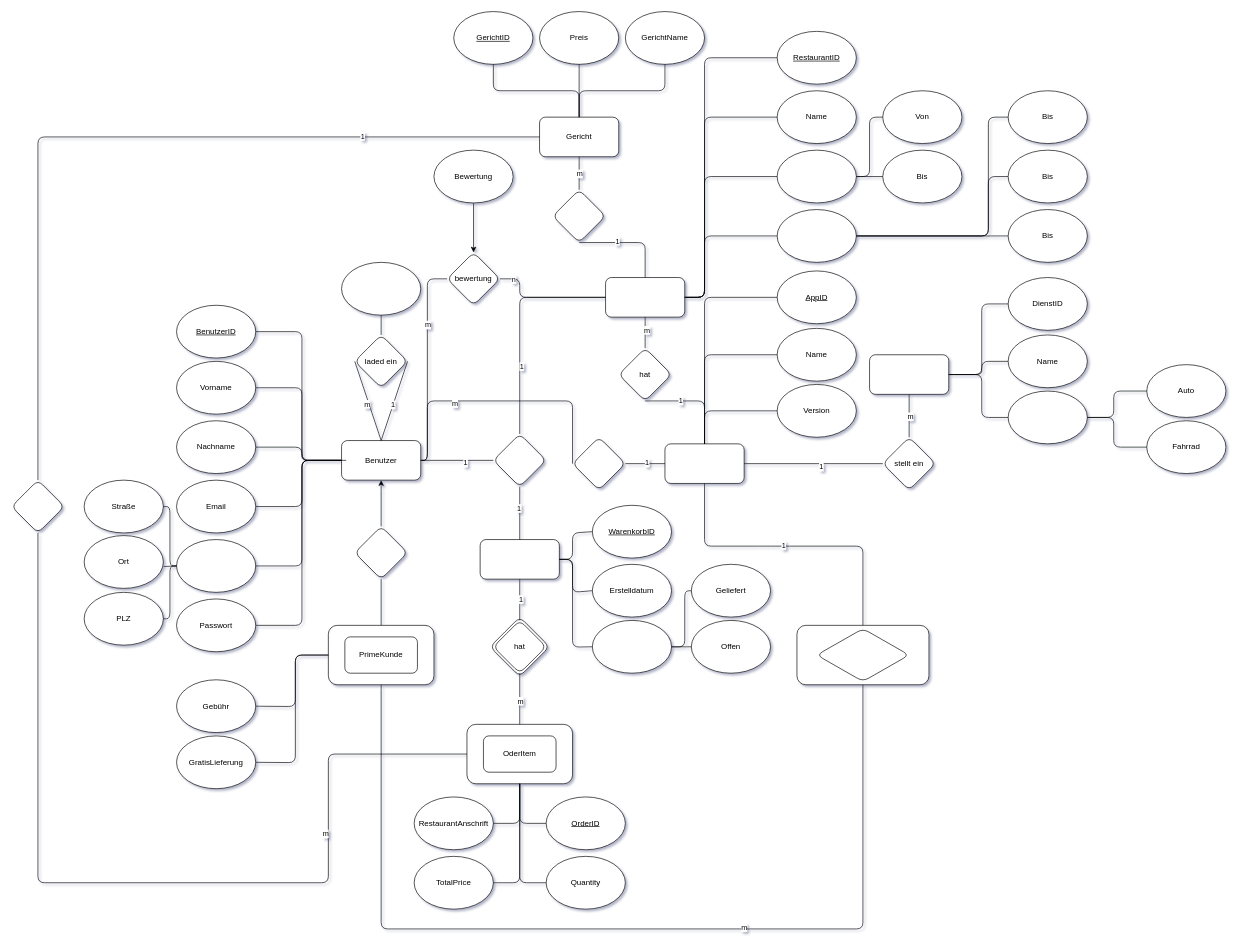
Some shapes in this 1241 by 947 pixel diagram are drawn without their labels. The shapes that lost their labels are listed below. From the top down, each one's centre as x and y in pixels, then its label:
At (816,176): "Öffnungszeiten".
At (579,216): "kocht".
At (816,235): "Anschrift".
At (381,288): "PromoCode".
At (645,297): "Restaurant".
At (909,374): "Lieferant".
At (1047,417): "Fahrzeug".
At (519,460): "bestellt".
At (598,463): "benutzt".
At (704,463): "App".
At (37,506): "in".
At (216,565): "Adresse".
At (381,552): "IS-A".
At (519,559): "Warenkorb".
At (632,646): "Status".
At (862,654): "Mitglied".
